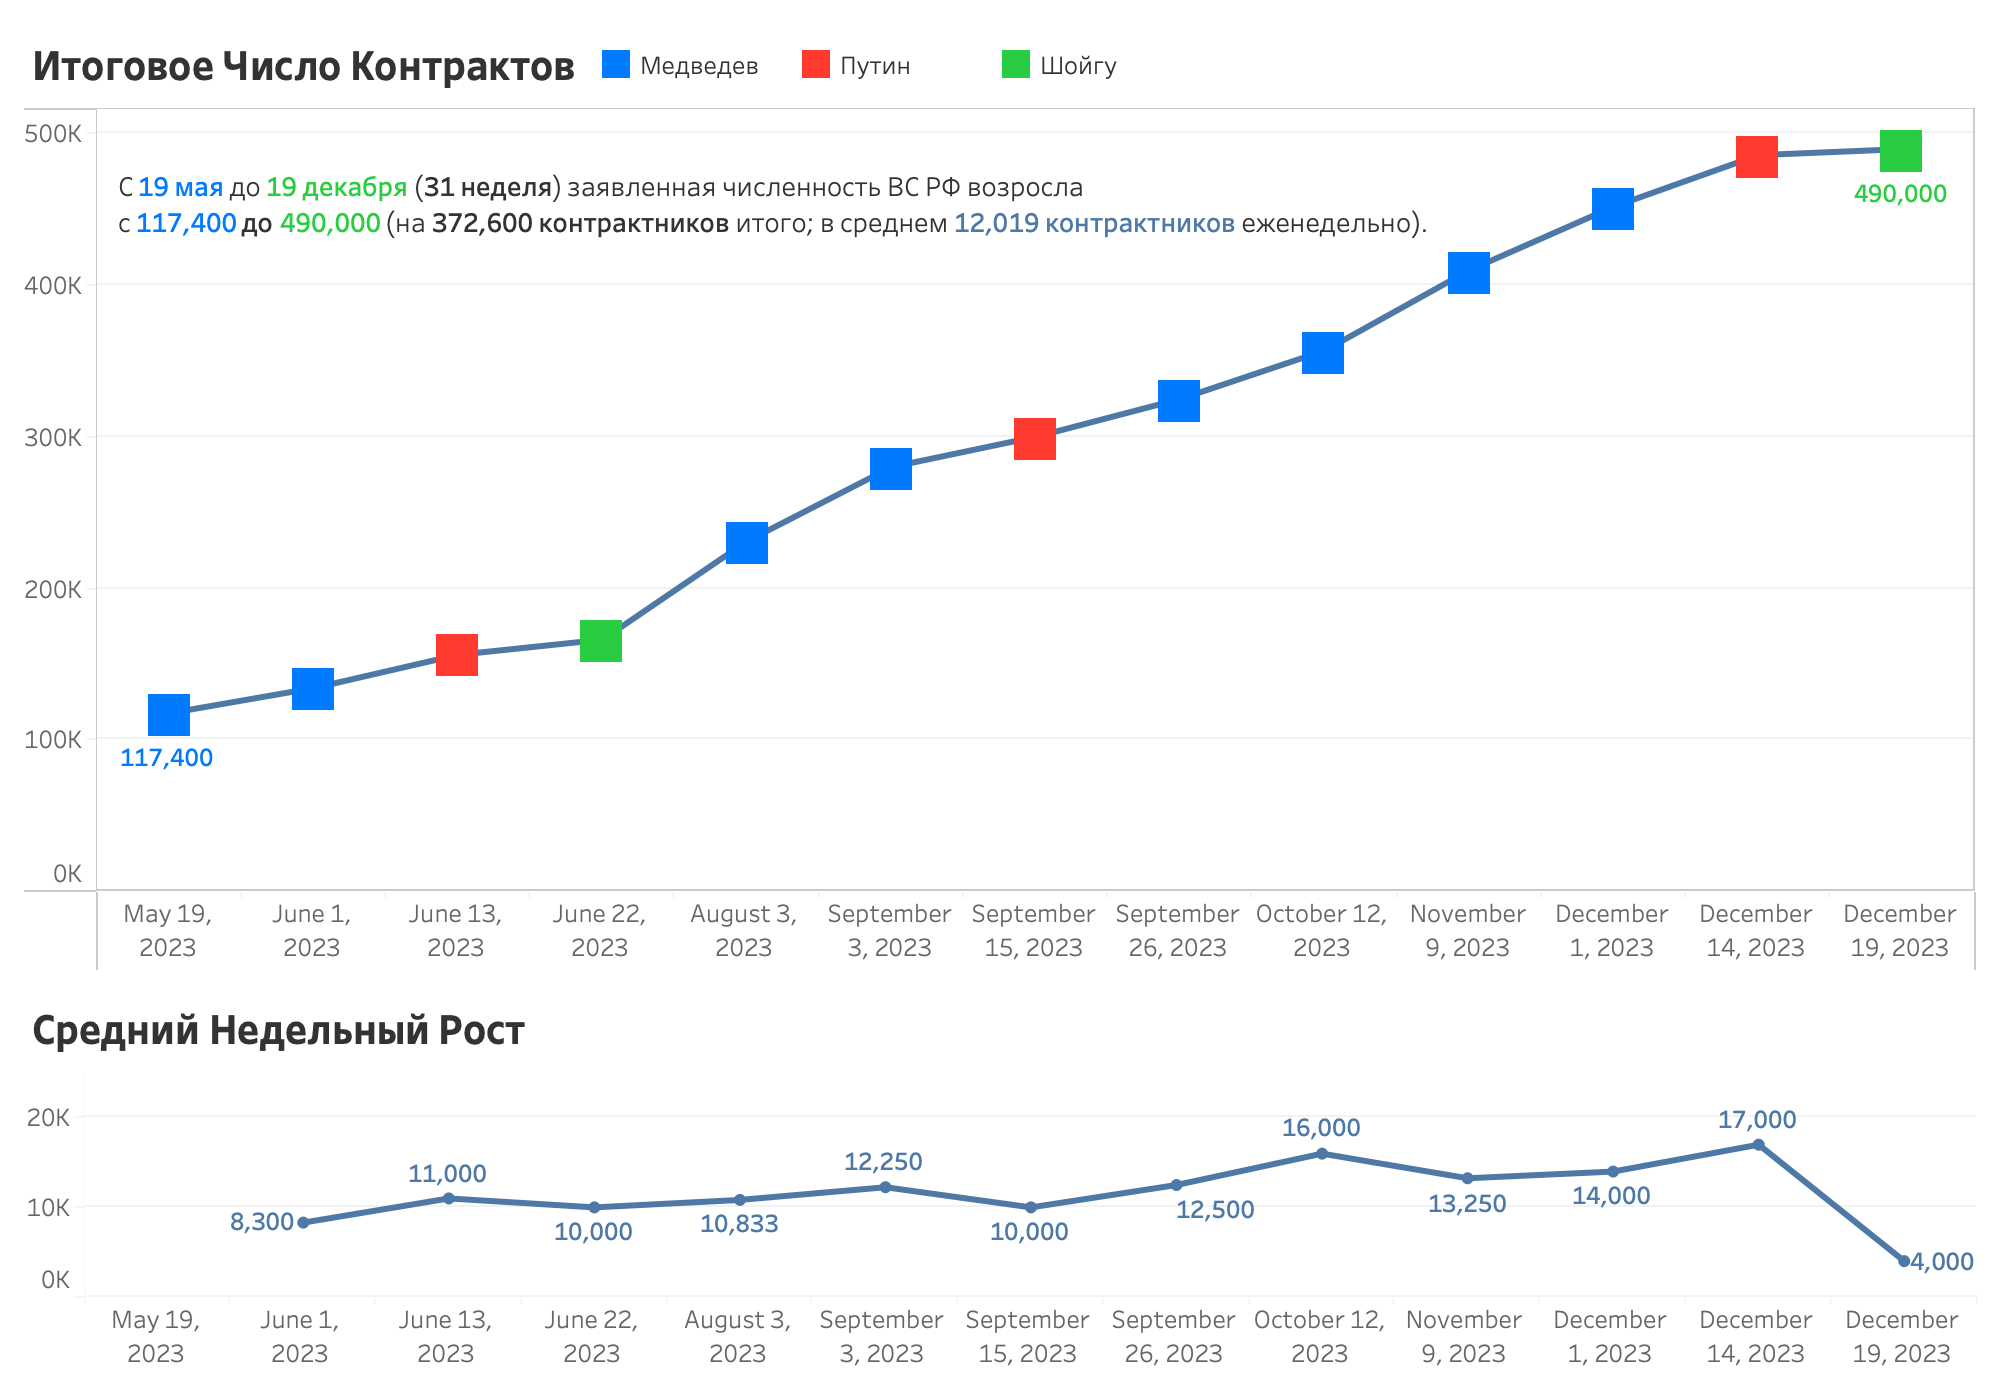

The dashboard page shown, as its layout file describes it:
{"tool":"tableau","page":{"name":"Таблица 1","canvas":[1000,700],"ordinal":3},"visuals":[{"type":"worksheet","title":"Итоговое Число Контрактов","mark":"Shape","rows":["Number of Contracts","Number of Contracts"],"cols":["Date"],"box":[8,8,984,482]},{"type":"legend","title":"Итоговое Число Контрактов","param":"[federated.1tg6i8g1fuqaun131gk011d8xqjd].[none:Speaker_ru:nk]","box":[298,22,380,35]},{"type":"worksheet","title":"Таблица 1 Текст","mark":"Automatic","box":[55,74,667,57]},{"type":"worksheet","title":"Средний Недельный Рост","mark":"Line","cols":["Date"],"box":[8,490,984,202]}]}

Visuals, with their boxes in screenshot pixels (x1, y1, x2, y2), scaled from the page's 1000x700 canvas onto the 2000x1400 screenshot:
"Итоговое Число Контрактов" worksheet (Shape marks): (16, 16, 1984, 980)
"Итоговое Число Контрактов" legend: (596, 44, 1356, 114)
"Таблица 1 Текст" worksheet: (110, 148, 1444, 262)
"Средний Недельный Рост" worksheet (Line marks): (16, 980, 1984, 1384)
